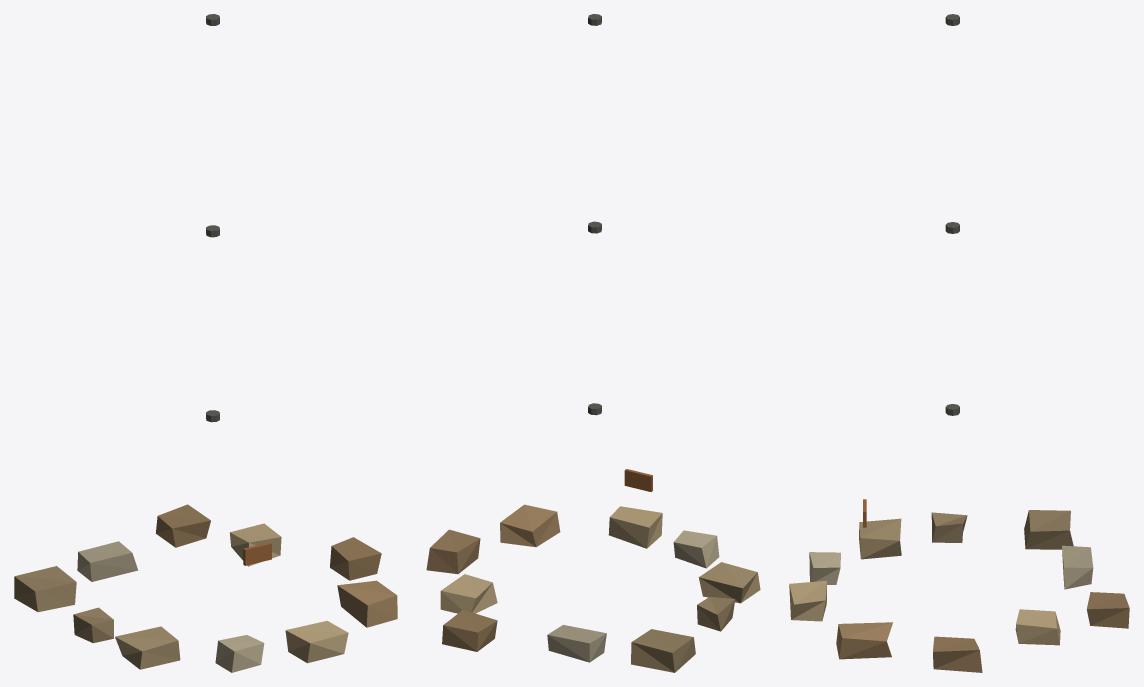
The model's file is dam_survey_gate_red_detail1.glb.
The picture shows the model from 3 angles, left to right: view 1: azimuth 30°, elevation 25°; view 2: azimuth 150°, elevation 25°; view 3: azimuth 270°, elevation 25°; orthographic projection.
Visible parts, largest first — view 1: dam_survey_gate_red_detail1; view 2: dam_survey_gate_red_detail1; view 3: dam_survey_gate_red_detail1.
Part boxes in pixels (x1=…): dam_survey_gate_red_detail1: x1=14, y1=14, x2=397, y2=672; dam_survey_gate_red_detail1: x1=426, y1=14, x2=760, y2=672; dam_survey_gate_red_detail1: x1=789, y1=14, x2=1129, y2=672.
Bounding box in the file's own units: 3.55 × 6.71 × 3.56.
